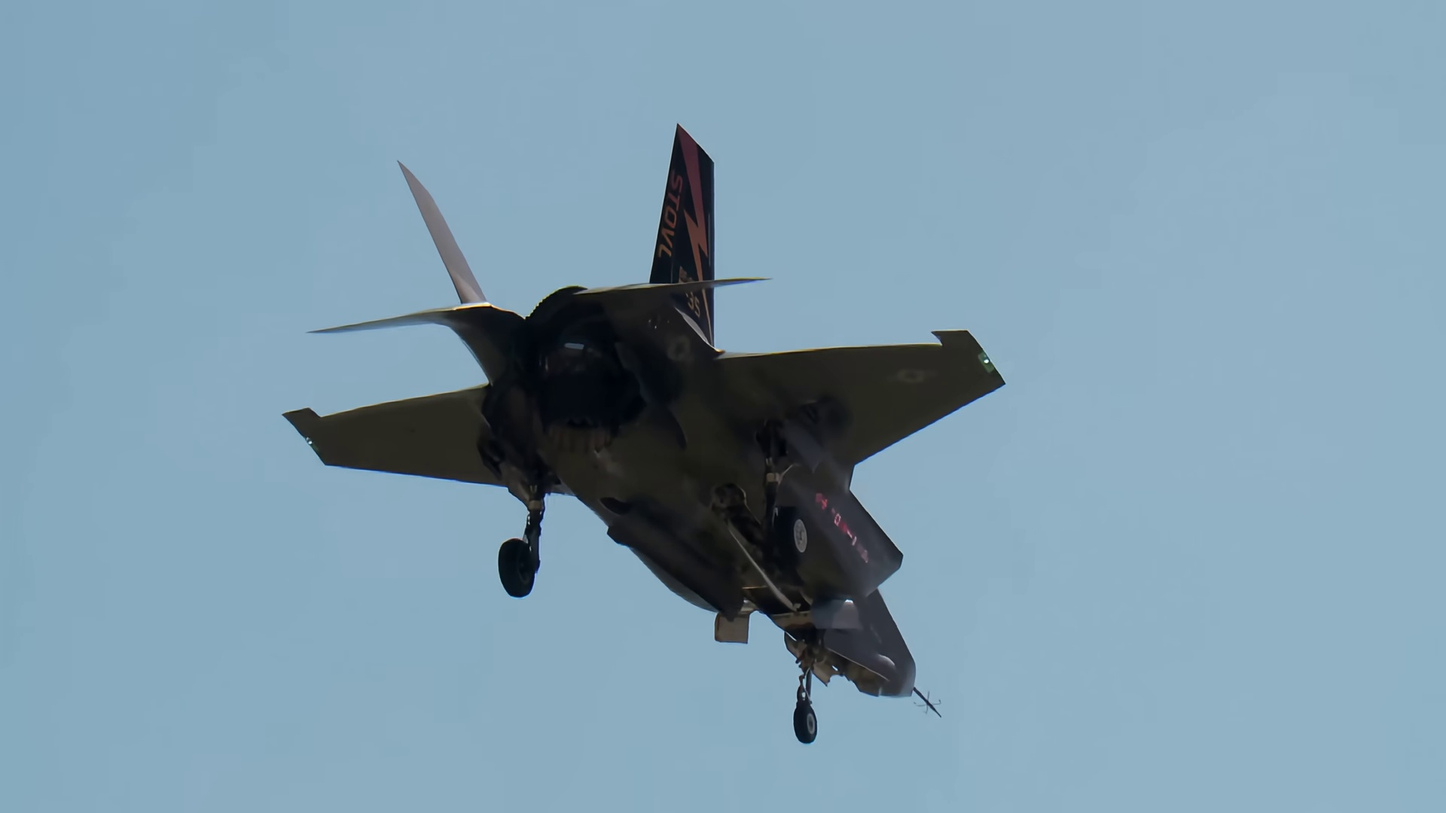F35: (267, 114, 1014, 754)
